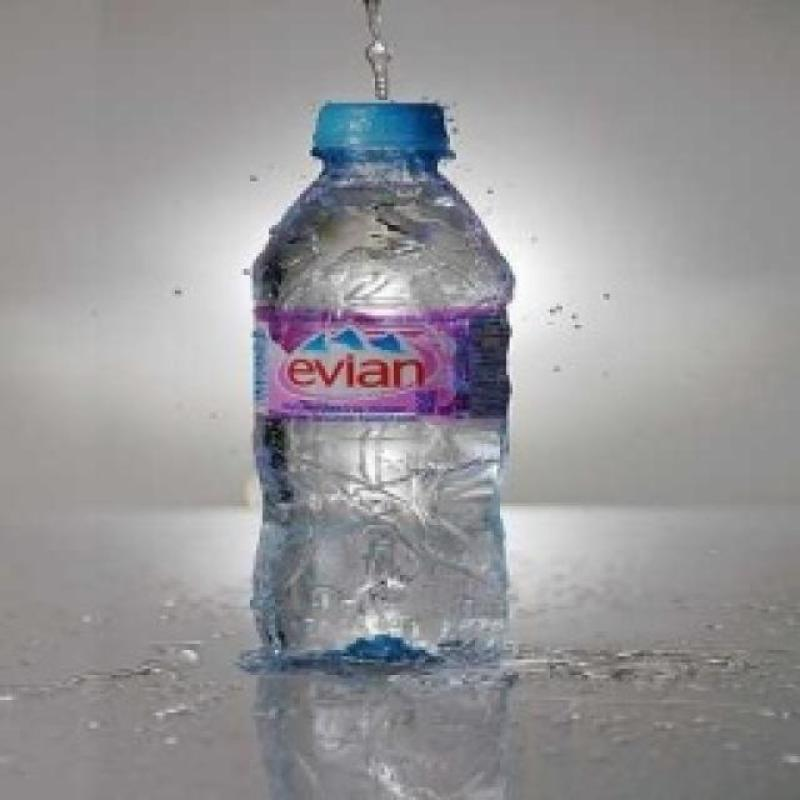botella: (256, 104, 522, 674)
